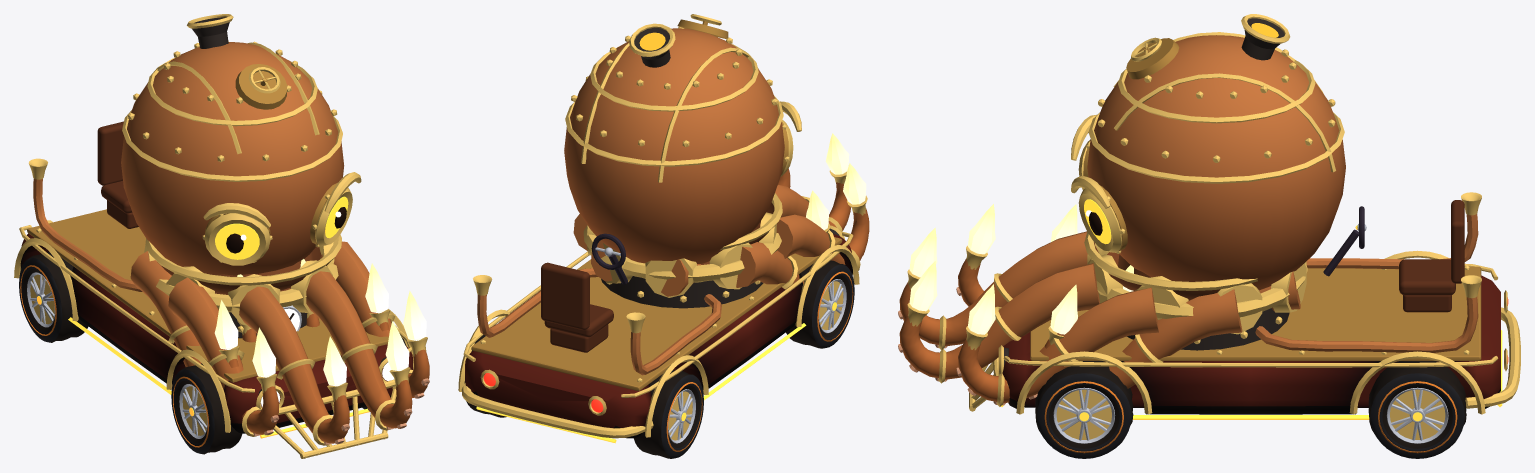
File: calamari_inferno.glb
3 renders of one model, left to right at view 1: azimuth 30°, elevation 25°; view 2: azimuth 150°, elevation 25°; view 3: azimuth 270°, elevation 25°, orthographic. The views are drawn at different scales.
Visible parts, largest first — view 1: mantle, hull, deck, arm7_tube, arm0_tube, arm6_tube, wheel_FR_tyre, wheel_RR_tyre, arm1_tube, arm5_tube, skirt_rim, mantle_band_1 (+31 smaller); view 2: mantle, hull, deck, seat_back, wheel_RR_tyre, wheel_FR_tyre, arm6_tube, boiler, bumper_rear, arm5_tube, collar, pipe_0 (+27 smaller); view 3: mantle, hull, deck, arm0_tube, arm1_tube, wheel_RL_tyre, arm7_tube, wheel_FL_tyre, arm2_tube, pipe_1, shoulder_1, mantle_band_1 (+25 smaller).
Boxes of the visible parts, <box> form: mantle: <box>121,42,344,275</box>; hull: <box>20,233,412,433</box>; deck: <box>27,209,388,382</box>; arm7_tube: <box>239,286,349,443</box>; arm0_tube: <box>306,271,412,428</box>; arm6_tube: <box>168,277,278,434</box>; wheel_FR_tyre: <box>171,363,242,454</box>; wheel_RR_tyre: <box>19,252,88,342</box>; arm1_tube: <box>320,241,429,397</box>; arm5_tube: <box>130,251,238,367</box>; skirt_rim: <box>145,234,341,285</box>; mantle_band_1: <box>122,110,342,181</box>; mantle: <box>564,28,784,263</box>; hull: <box>465,234,852,438</box>; deck: <box>471,237,842,390</box>; seat_back: <box>541,262,589,329</box>; wheel_RR_tyre: <box>634,370,703,458</box>; wheel_FR_tyre: <box>786,260,854,348</box>; arm6_tube: <box>776,208,869,264</box>; boiler: <box>601,242,763,308</box>; bumper_rear: <box>461,383,653,438</box>; arm5_tube: <box>736,242,803,287</box>; collar: <box>583,225,781,281</box>; pipe_0: <box>630,294,721,375</box>; mantle: <box>1087,35,1345,290</box>; hull: <box>1002,275,1500,414</box>; deck: <box>1030,266,1481,360</box>; arm0_tube: <box>899,263,1099,379</box>; arm1_tube: <box>958,287,1158,403</box>; wheel_RL_tyre: <box>1368,361,1466,458</box>; arm7_tube: <box>899,231,1087,346</box>; wheel_FL_tyre: <box>1035,361,1133,458</box>; arm2_tube: <box>1044,289,1242,388</box>; pipe_1: <box>1255,296,1478,352</box>; shoulder_1: <box>1003,356,1498,367</box>; mantle_band_1: <box>1088,112,1344,183</box>.
Bounding box in the file's own units: 2.65 × 4.37 × 6.35.
